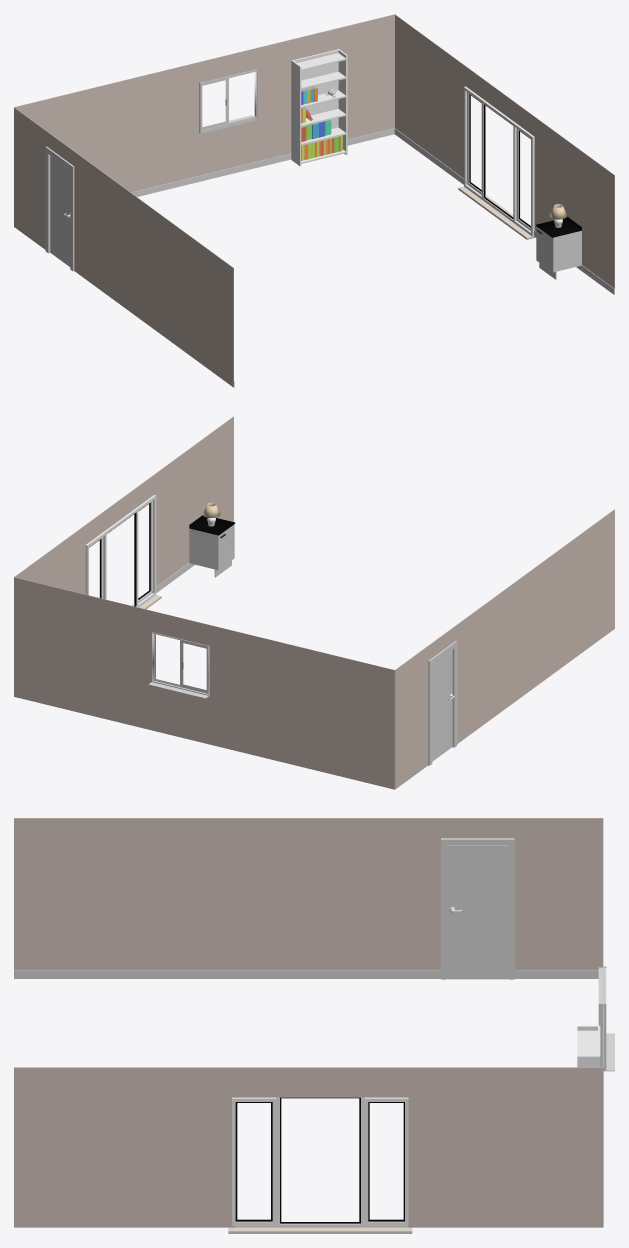
The model's file is room.glb.
3 views of the same model, one above another, from view 1: azimuth 30°, elevation 25°; view 2: azimuth 150°, elevation 25°; view 3: azimuth 270°, elevation 25° (orthographic). The views are drawn at different scales.
Parts seen in each view (by area): view 1: Cabinet1.000; view 2: Cabinet1.000; view 3: Cabinet1.000.
Boxes of the visible parts, <box> form: Cabinet1.000: <box>14,14,614,387</box>; Cabinet1.000: <box>14,416,614,789</box>; Cabinet1.000: <box>14,818,614,1233</box>.
Size of the model in its own units: 8.19 by 2.44 by 8.16.
